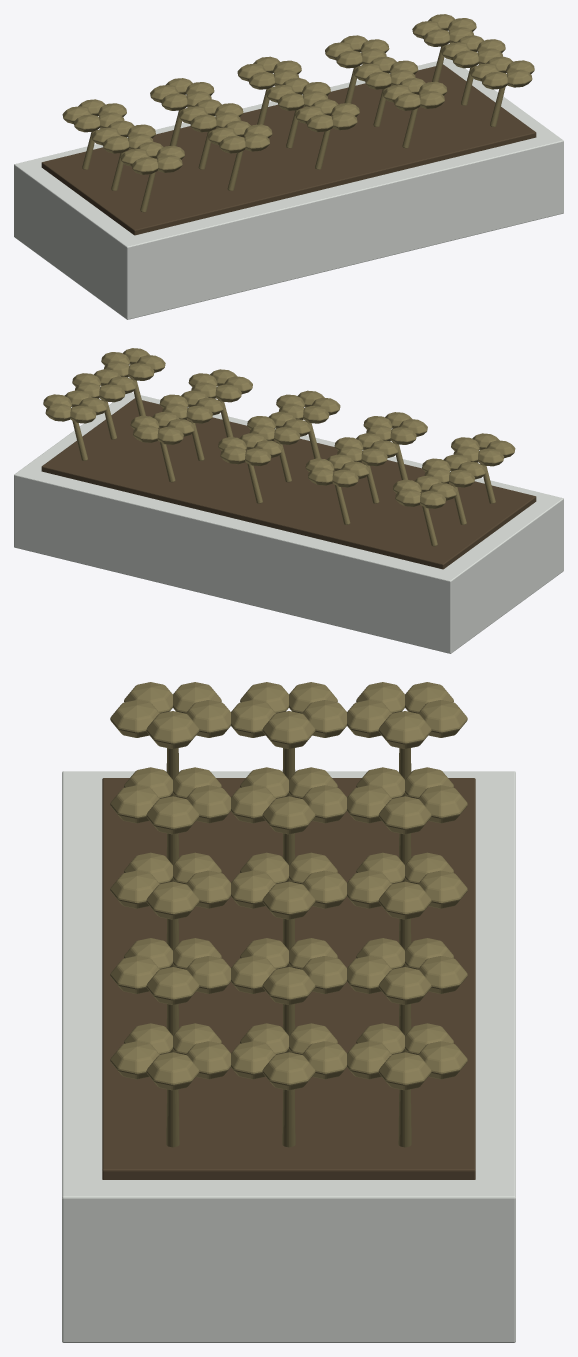
File: HAP_PLANTER_WITHERED_01.fbx
The picture shows the model from 3 angles, top to bottom: view 1: azimuth 30°, elevation 25°; view 2: azimuth 150°, elevation 25°; view 3: azimuth 270°, elevation 25°; orthographic projection. The views are drawn at different scales.
Parts seen in each view (by area): view 1: HAP_PLANTER_WITHERED_01; view 2: HAP_PLANTER_WITHERED_01; view 3: HAP_PLANTER_WITHERED_01.
Boxes of the visible parts, bbox=[...] form: HAP_PLANTER_WITHERED_01: bbox=[14, 14, 563, 319]; HAP_PLANTER_WITHERED_01: bbox=[14, 348, 563, 653]; HAP_PLANTER_WITHERED_01: bbox=[62, 682, 515, 1342].
Bounding box in the file's own units: 200 × 59 × 90.
